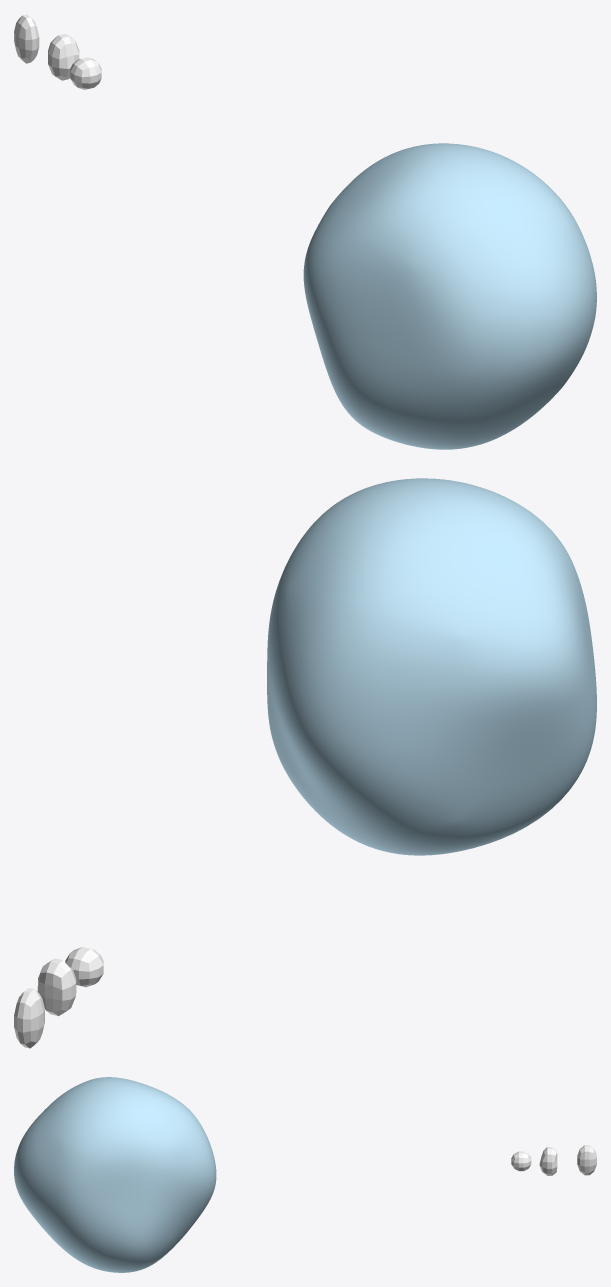
The model's file is WaterBall.fbx.
The picture shows the model from 3 angles, top to bottom: view 1: azimuth 30°, elevation 25°; view 2: azimuth 150°, elevation 25°; view 3: azimuth 270°, elevation 25°; orthographic projection. The views are drawn at different scales.
Parts seen in each view (by area): view 1: Roundcube, Roundcube.002, Roundcube.003, Roundcube.001; view 2: Roundcube, Roundcube.002, Roundcube.003, Roundcube.001; view 3: Roundcube, Roundcube.003, Roundcube.002, Roundcube.001.
Boxes of the visible parts, x1,y1,x2,y2 form: Roundcube: (303,143,596,449); Roundcube.002: (48,33,79,80); Roundcube.003: (14,14,39,63); Roundcube.001: (70,57,101,89); Roundcube: (267,478,596,855); Roundcube.002: (37,958,76,1016); Roundcube.003: (14,988,44,1048); Roundcube.001: (65,947,103,987); Roundcube: (14,1077,216,1272); Roundcube.003: (577,1145,596,1175); Roundcube.002: (539,1147,557,1175); Roundcube.001: (511,1151,531,1171).
Size of the model in its own units: 179 by 196 by 588.
